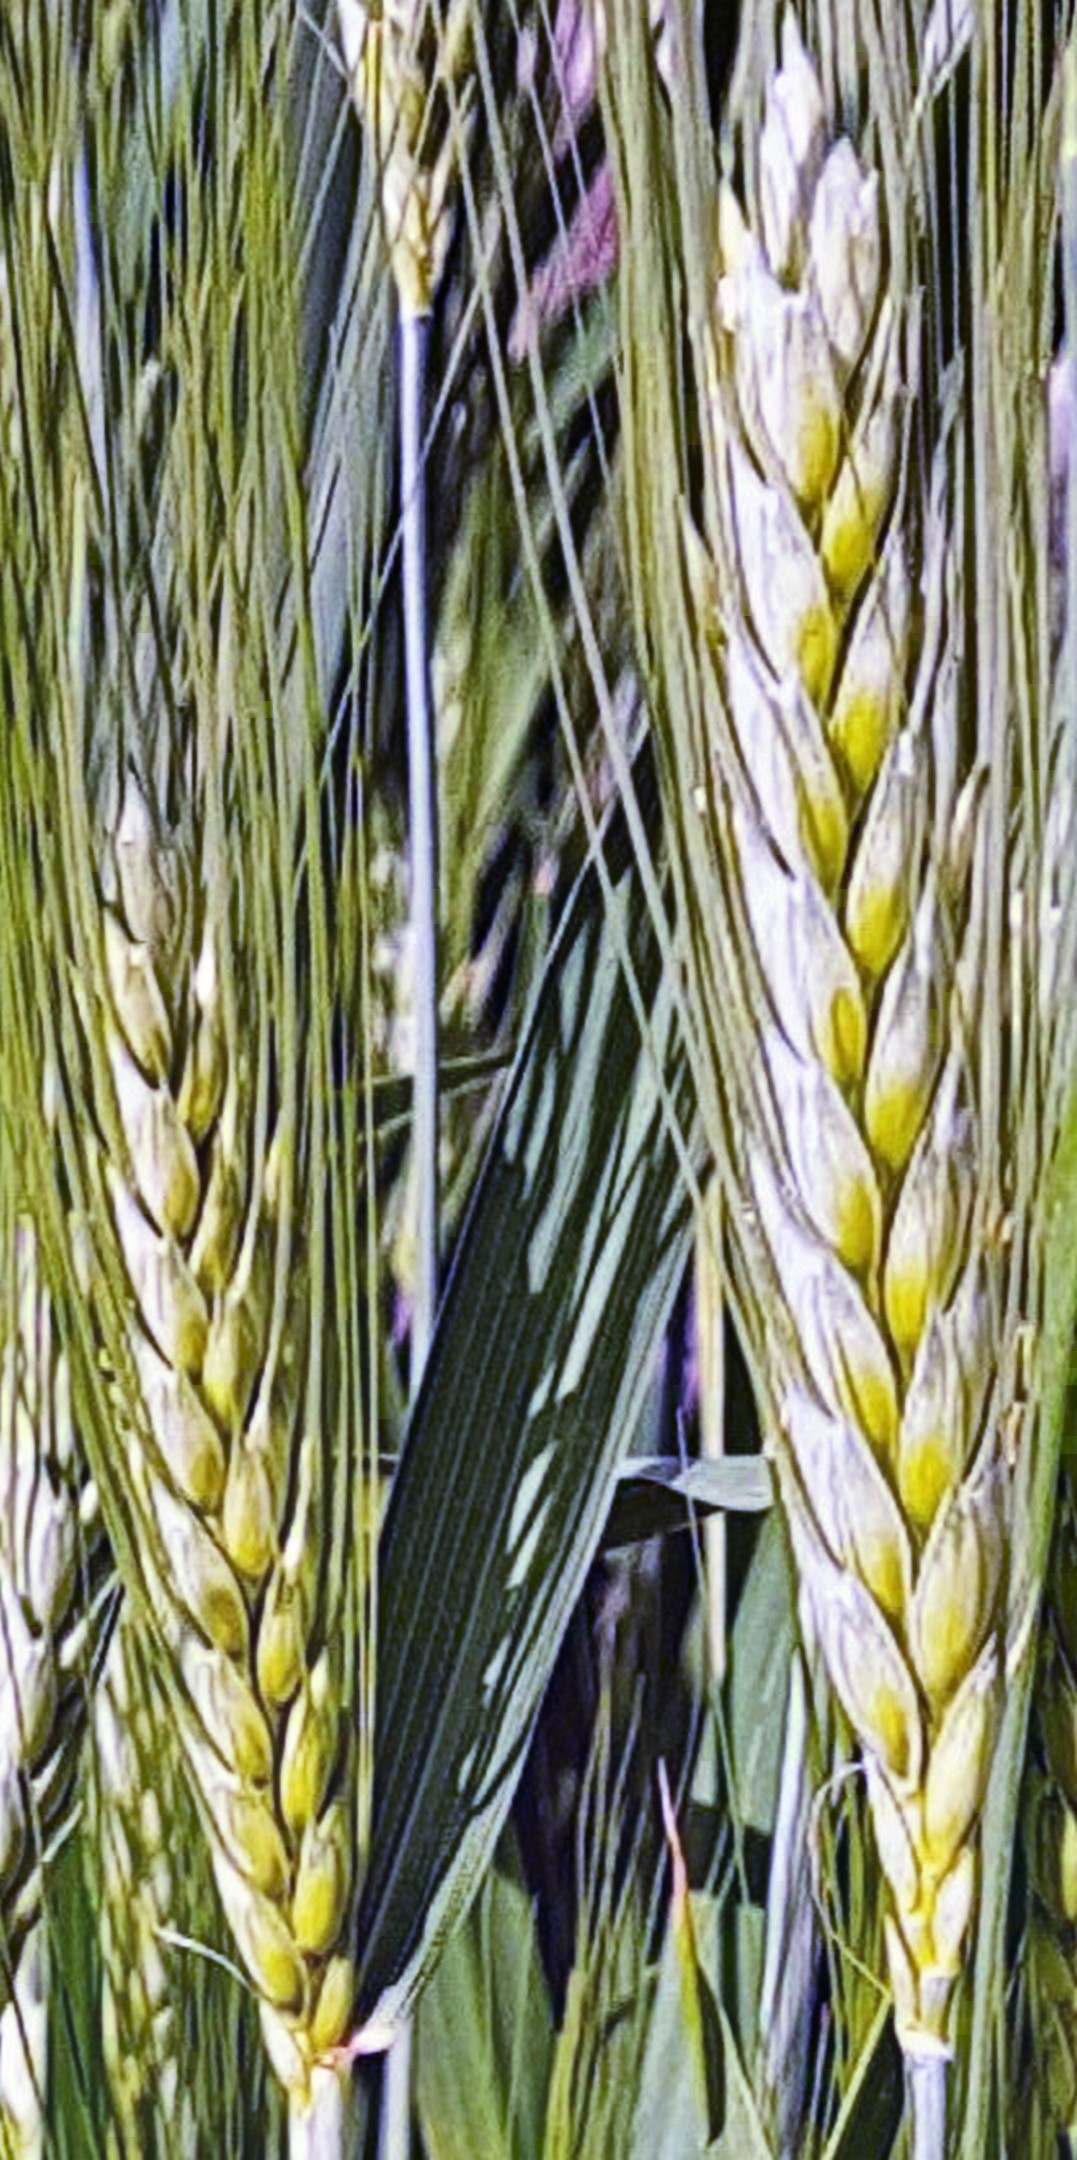Healthy Wheat: (632, 141, 1077, 1949), (41, 762, 448, 2006)
